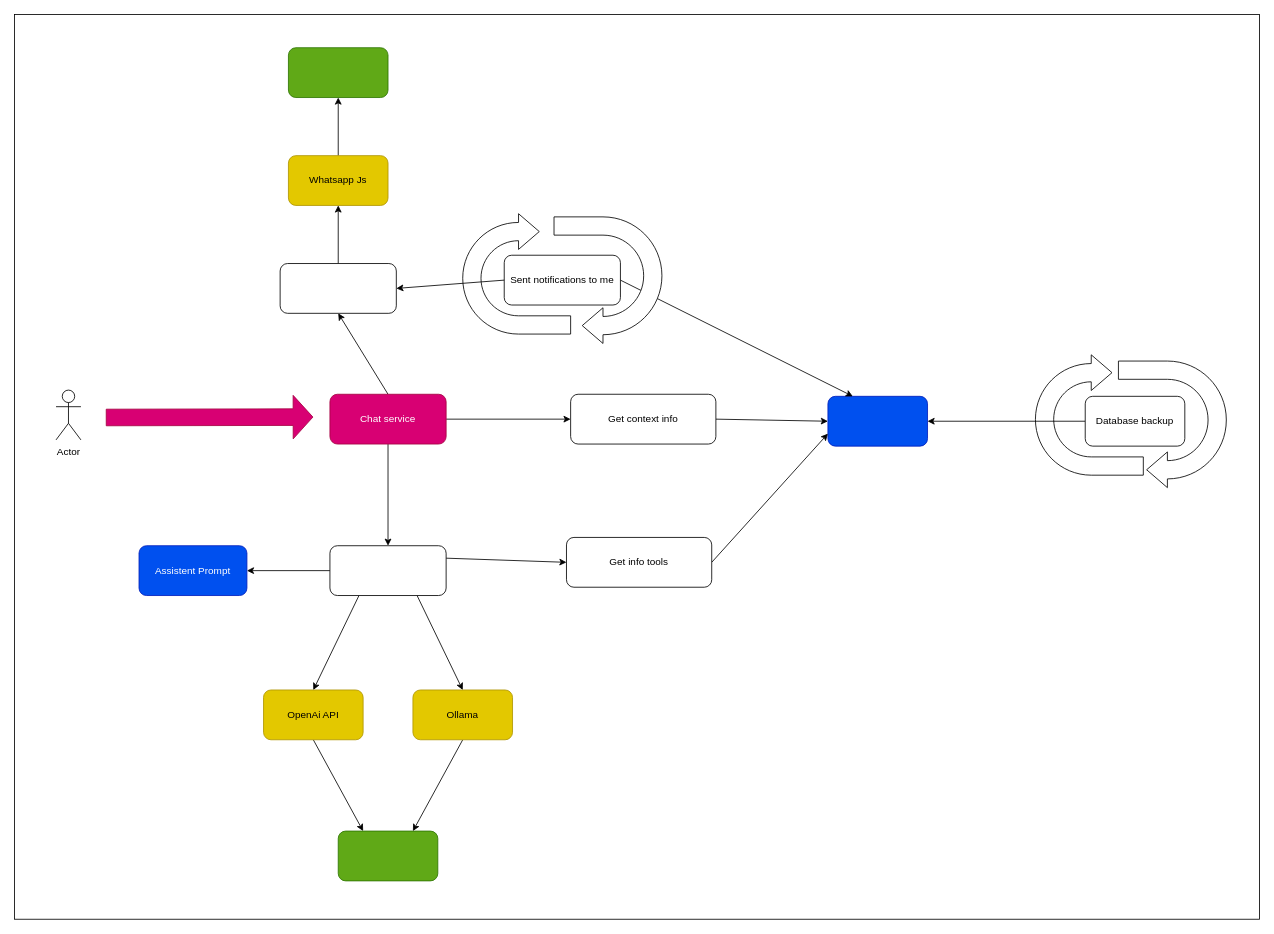
Some shapes in this 1274 by 934 pixel diagram are drawn without their labels. The centre of each missing label's shape, as x and y in pixels:
"Database" goes at (877,420).
"LLM" goes at (387,855).
"LLM agents" goes at (387,570).
"Whatsapp" goes at (338,72).
"Whatsapp interaction" goes at (337,288).
